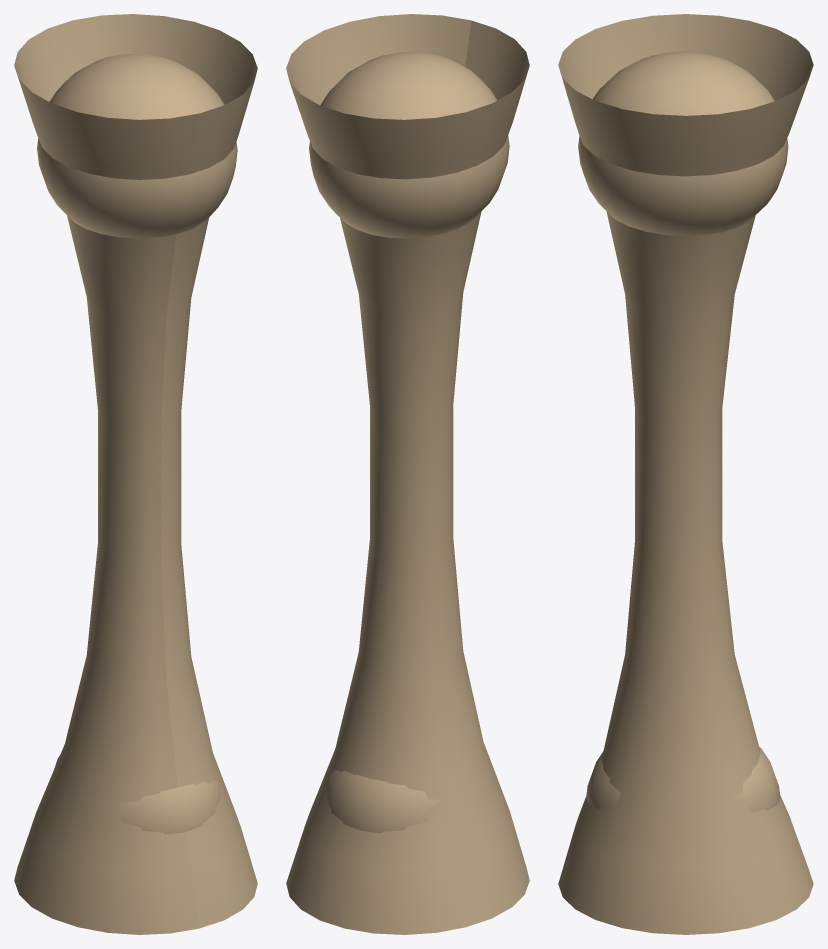
File: right_metacarpal_1.glb
3 views of the same model, side by side, from view 1: azimuth 30°, elevation 25°; view 2: azimuth 150°, elevation 25°; view 3: azimuth 270°, elevation 25° (orthographic).
Visible parts, largest first — view 1: right_metacarpal_1:diaphysis, right_metacarpal_1:proximal-envelope, right_metacarpal_1:distal-envelope; view 2: right_metacarpal_1:diaphysis, right_metacarpal_1:proximal-envelope, right_metacarpal_1:distal-envelope; view 3: right_metacarpal_1:diaphysis, right_metacarpal_1:proximal-envelope, right_metacarpal_1:distal-envelope.
Boxes of the visible parts, box(x1,y1,x2,y2) form: right_metacarpal_1:diaphysis: box(14, 14, 257, 934); right_metacarpal_1:proximal-envelope: box(37, 53, 237, 238); right_metacarpal_1:distal-envelope: box(54, 755, 220, 834); right_metacarpal_1:diaphysis: box(286, 14, 529, 934); right_metacarpal_1:proximal-envelope: box(309, 51, 509, 238); right_metacarpal_1:distal-envelope: box(324, 770, 440, 833); right_metacarpal_1:diaphysis: box(558, 14, 813, 934); right_metacarpal_1:proximal-envelope: box(578, 51, 788, 236); right_metacarpal_1:distal-envelope: box(586, 746, 780, 812).
Bounding box in the file's own units: 0.0799 × 0.3008 × 0.0846.
